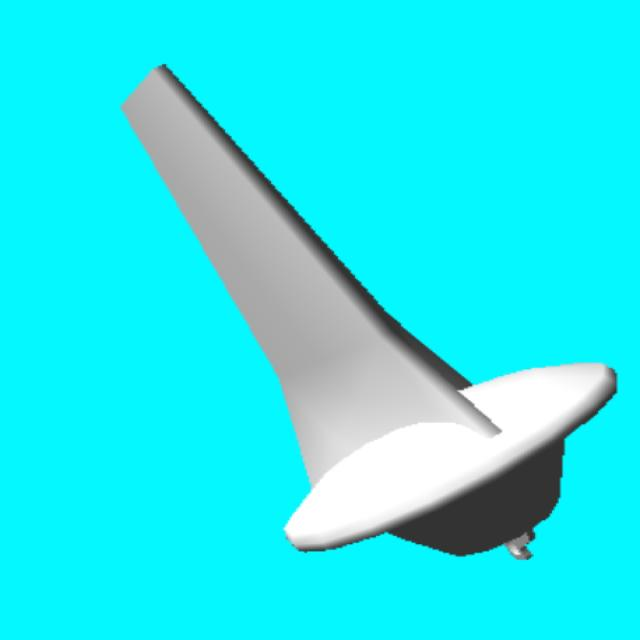WhiteBuoy: (122, 66, 616, 559)
